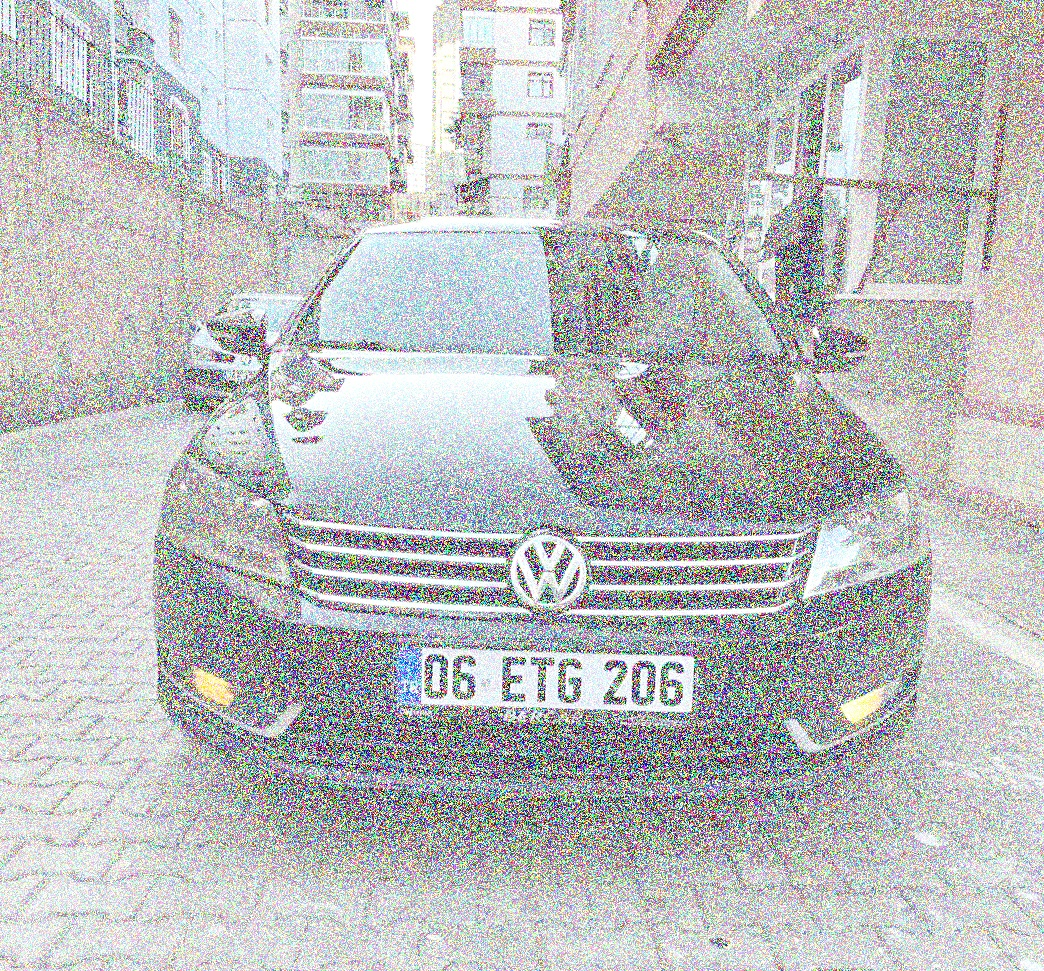plaka: (416, 643, 692, 717)
